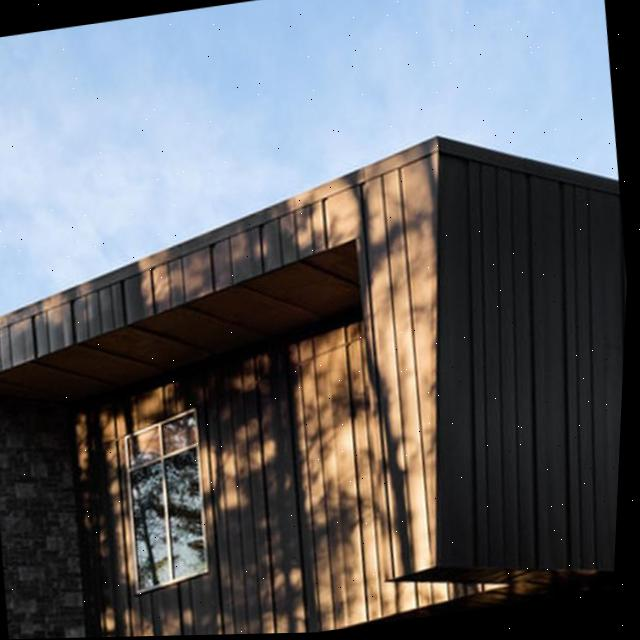building: (0, 107, 635, 640)
